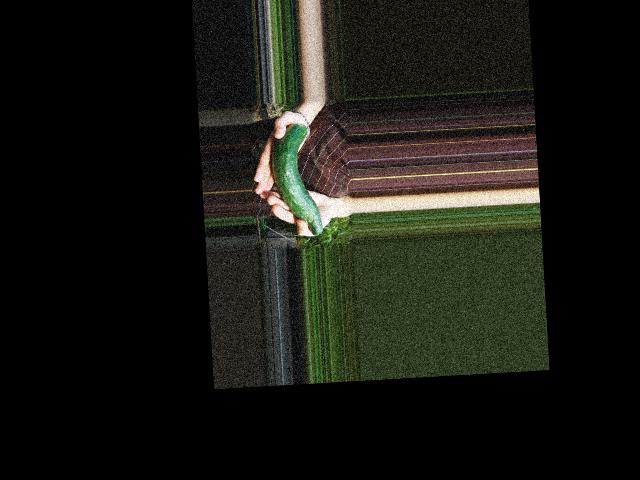cucumber: (269, 121, 322, 237)
